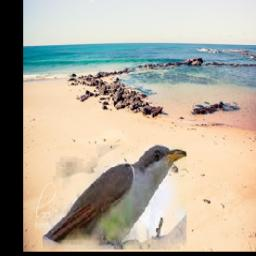Cuckoo: (44, 145, 187, 250)
